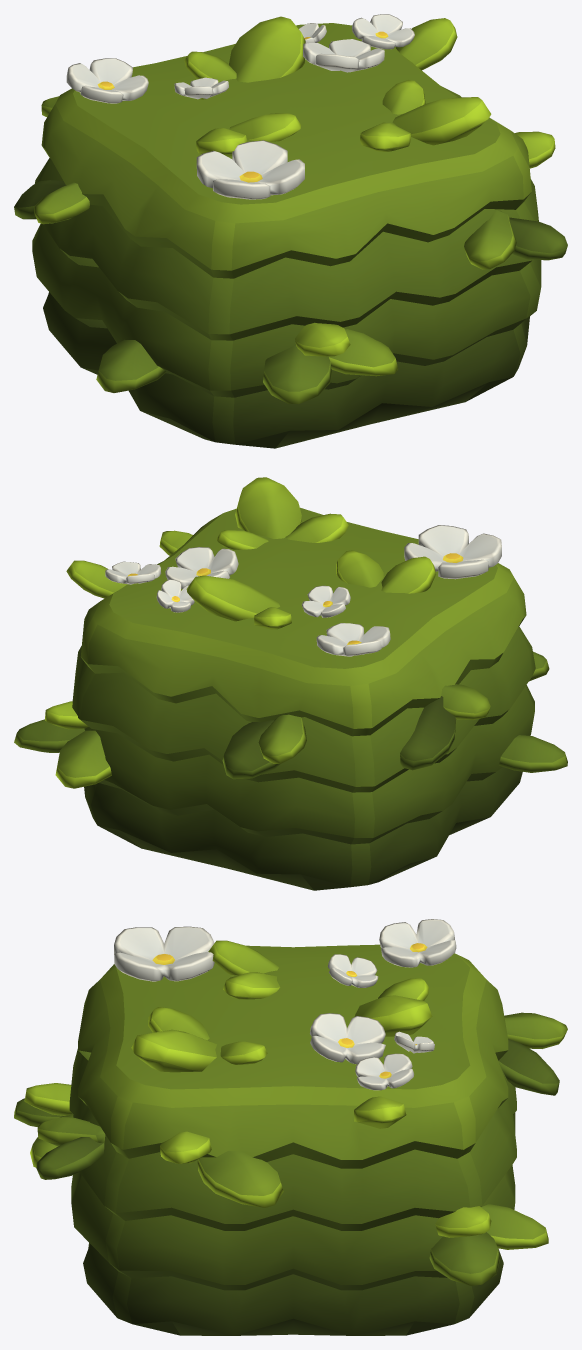
Rendered from bush_cubes.fbx.
The picture shows the model from 3 angles, top to bottom: view 1: azimuth 30°, elevation 25°; view 2: azimuth 150°, elevation 25°; view 3: azimuth 270°, elevation 25°; orthographic projection. The views are drawn at different scales.
Parts seen in each view (by area): view 1: bush_cubes; view 2: bush_cubes; view 3: bush_cubes.
Part boxes in pixels (x1=…): bush_cubes: x1=14, y1=14, x2=567, y2=448; bush_cubes: x1=14, y1=477, x2=567, y2=890; bush_cubes: x1=14, y1=919, x2=567, y2=1335.
Bounding box in the file's own units: 309 × 189 × 319.
Materials: 1 (1 with a texture image).
